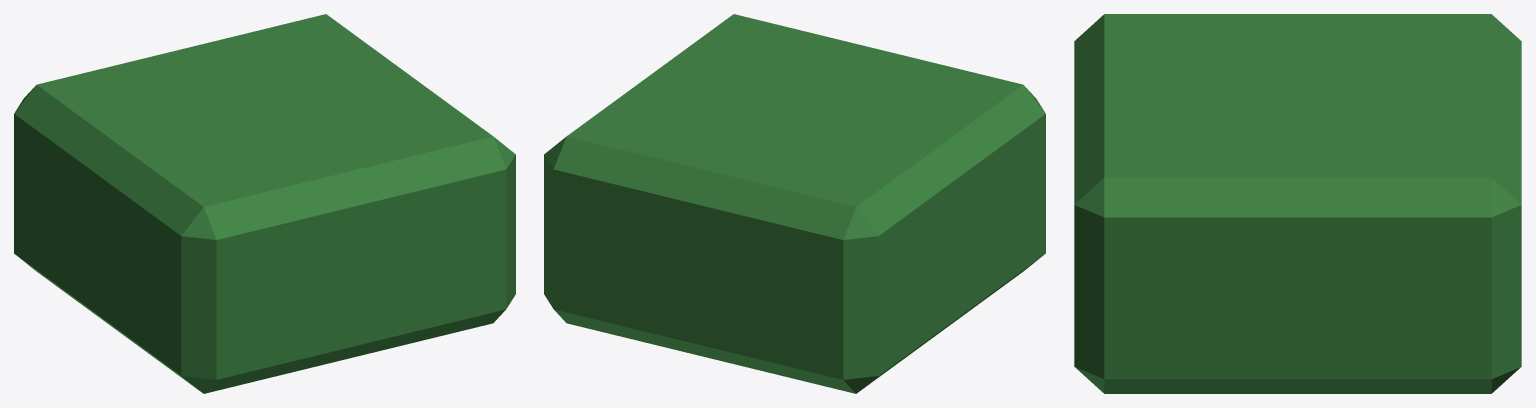
Rendered from m_kub_dung_block_small.fbx.
The picture shows the model from 3 angles, left to right: view 1: azimuth 30°, elevation 25°; view 2: azimuth 150°, elevation 25°; view 3: azimuth 270°, elevation 25°; orthographic projection. The views are drawn at different scales.
Visible parts, largest first — view 1: m_kub_dung_block_small; view 2: m_kub_dung_block_small; view 3: m_kub_dung_block_small.
Part boxes in pixels (bbox=[...]): m_kub_dung_block_small: bbox=[14, 14, 515, 393]; m_kub_dung_block_small: bbox=[544, 14, 1045, 393]; m_kub_dung_block_small: bbox=[1074, 14, 1521, 393].
Size of the model in its own units: 2.15 by 1.15 by 2.15.
